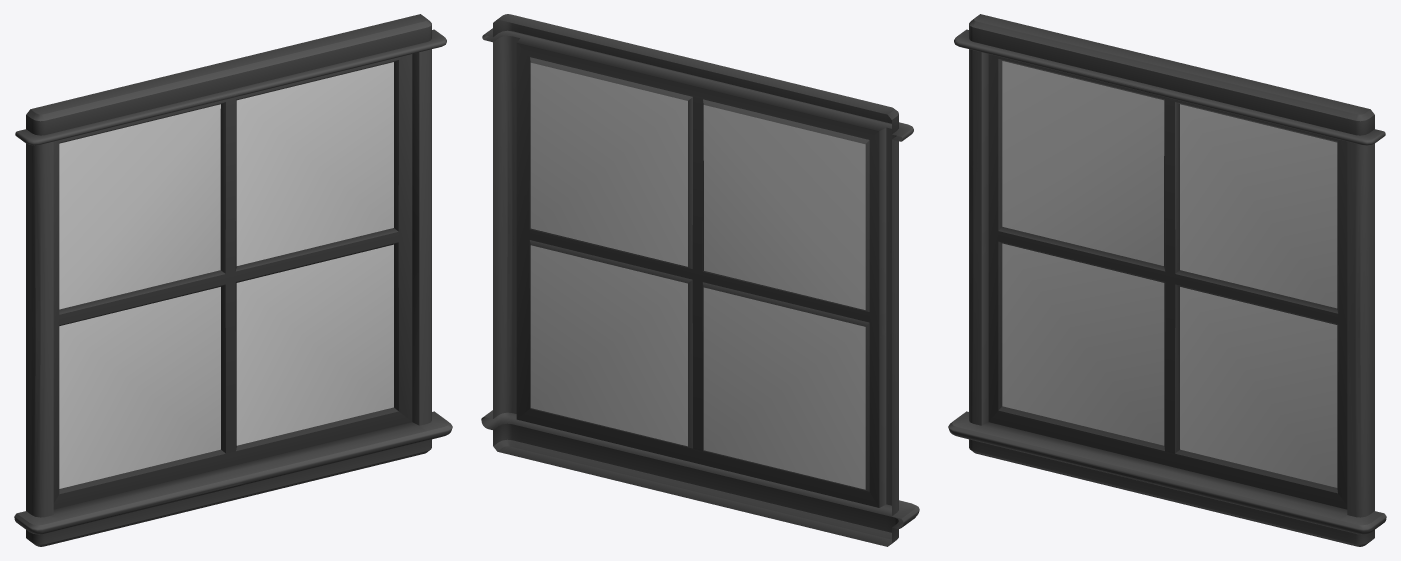
The model's file is window_04.fbx.
3 renders of one model, left to right at view 1: azimuth 30°, elevation 25°; view 2: azimuth 150°, elevation 25°; view 3: azimuth 330°, elevation 25°, orthographic.
Visible parts, largest first — view 1: window_04; view 2: window_04; view 3: window_04.
Boxes of the visible parts, <box> form: window_04: <box>14,14,452,546</box>; window_04: <box>481,14,919,546</box>; window_04: <box>948,14,1386,546</box>.
Size of the model in its own units: 1.14 by 1.11 by 0.0923.
